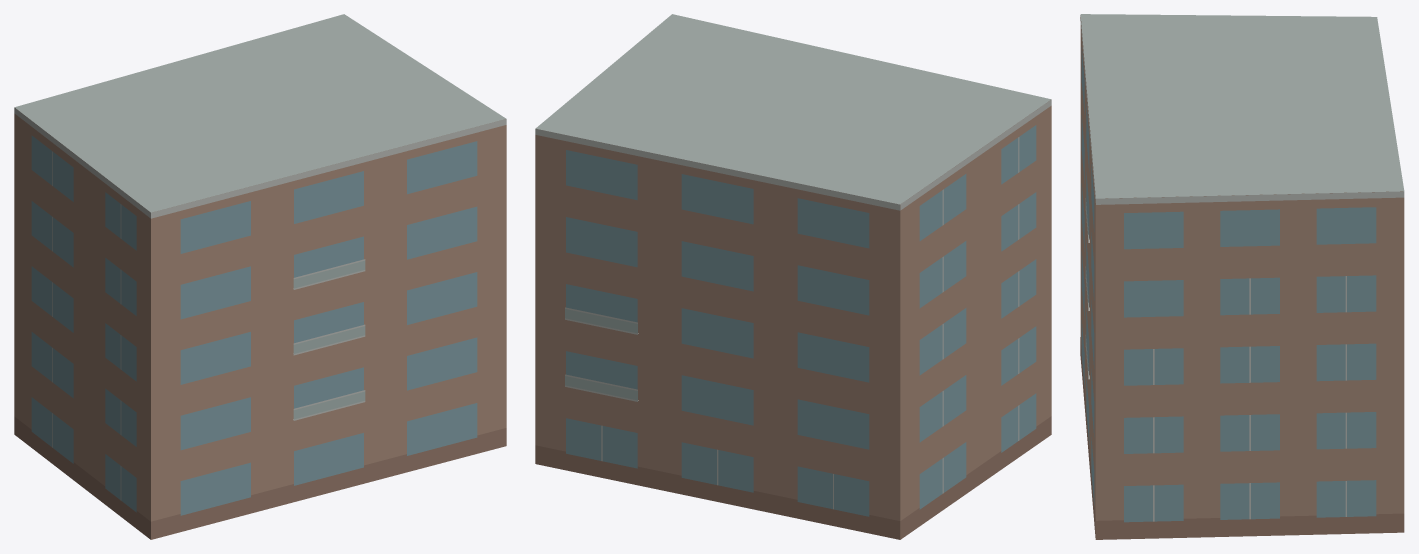
Rendered from survey-upis-33022731.glb.
3 views of the same model, side by side, from view 1: azimuth 30°, elevation 25°; view 2: azimuth 150°, elevation 25°; view 3: azimuth 270°, elevation 25° (orthographic). The views are drawn at different scales.
Visible parts, largest first — view 1: survey-upis-33022731.tmp; view 2: survey-upis-33022731.tmp; view 3: survey-upis-33022731.tmp.
Boxes of the visible parts, x1,y1,x2,y2 form: survey-upis-33022731.tmp: (14,14,506,539); survey-upis-33022731.tmp: (535,14,1051,539); survey-upis-33022731.tmp: (1080,14,1404,539).
Bounding box in the file's own units: 15.45 × 13.3 × 11.45.
